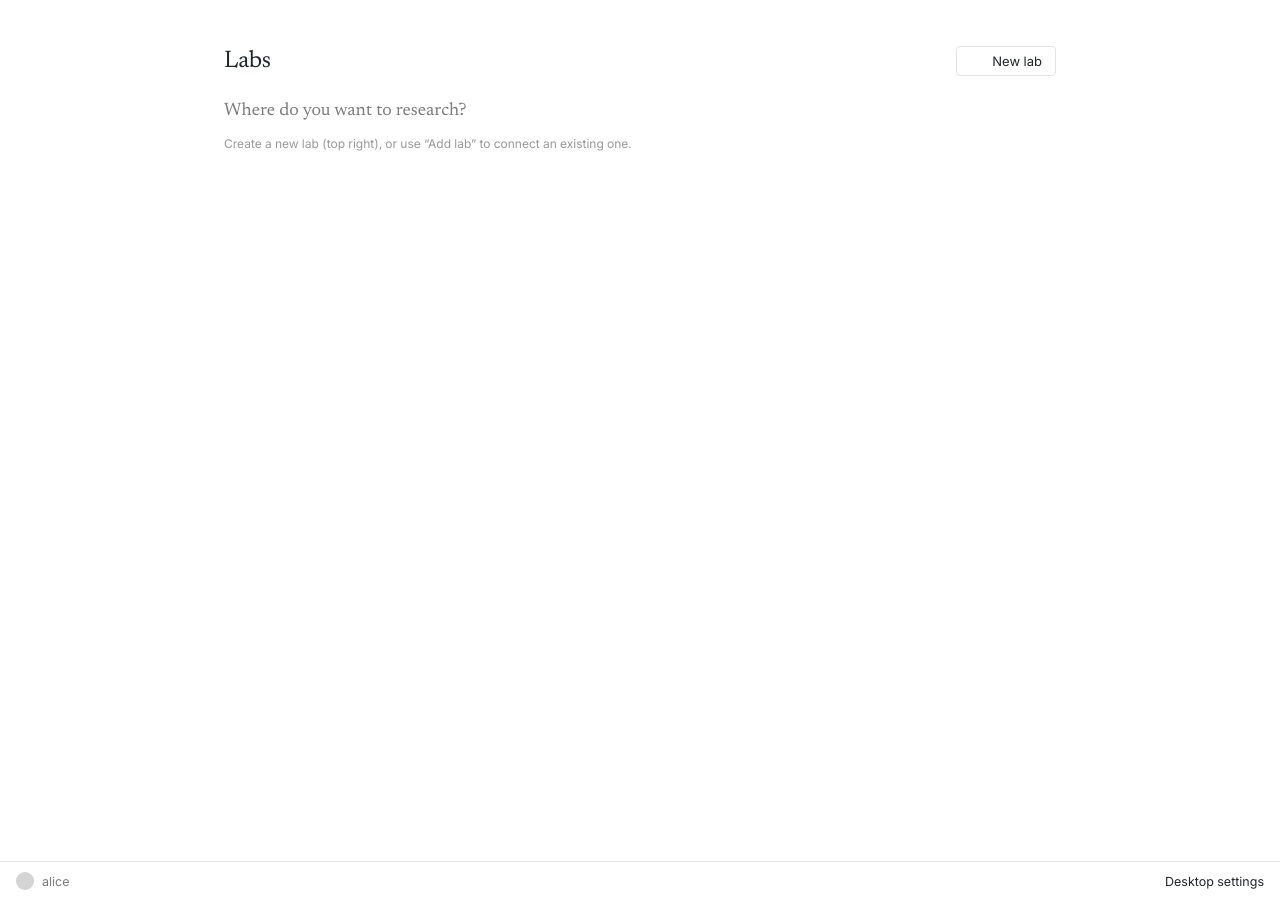
Test case: App labs list › New lab menu opens the wizard or signup
Click the button with aria-label "Add a lab" at (1006, 61), box top-left (956, 46), bottom-right (1056, 76)
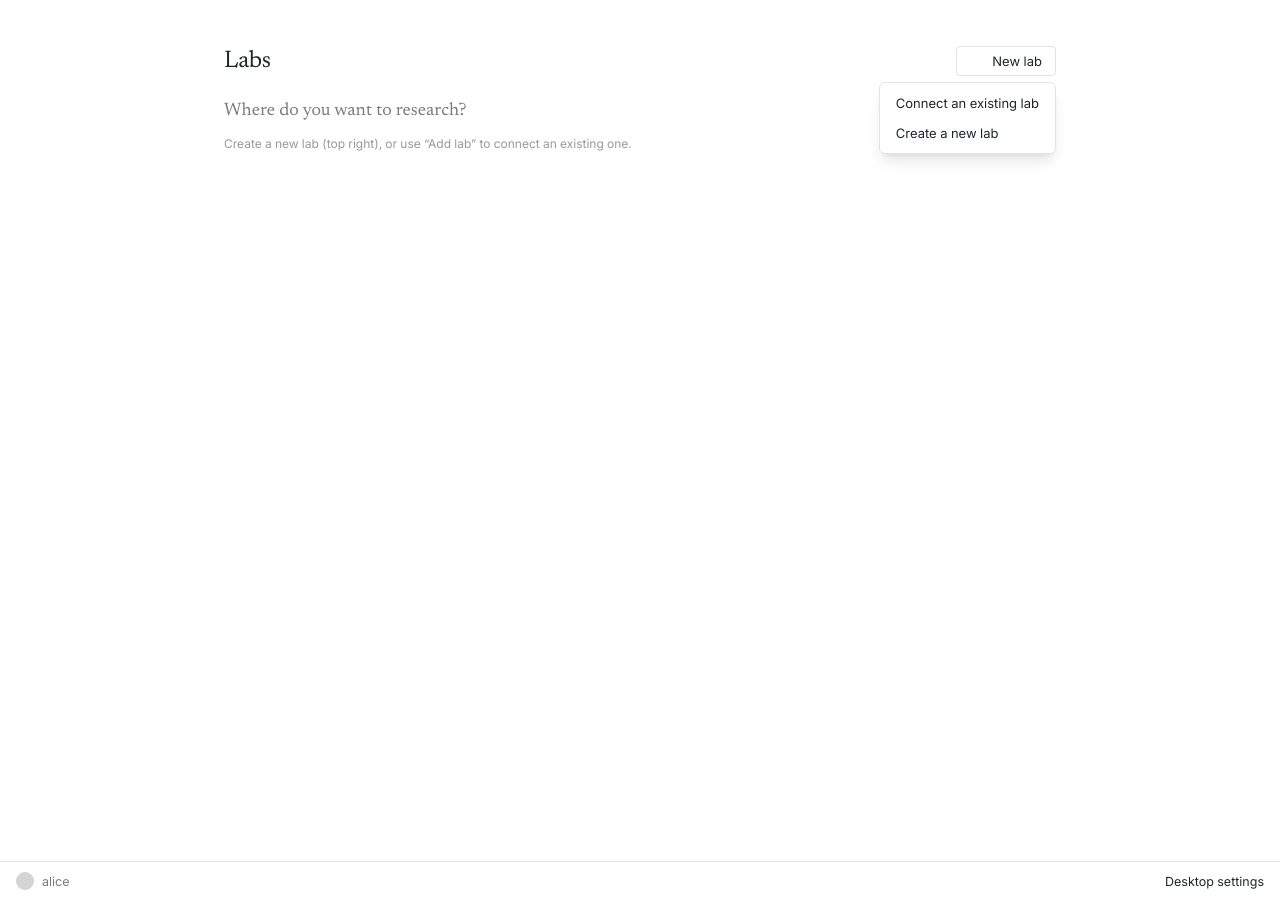
Click the menu item "Create a new lab" at (967, 133), box top-left (885, 118), bottom-right (1050, 148)
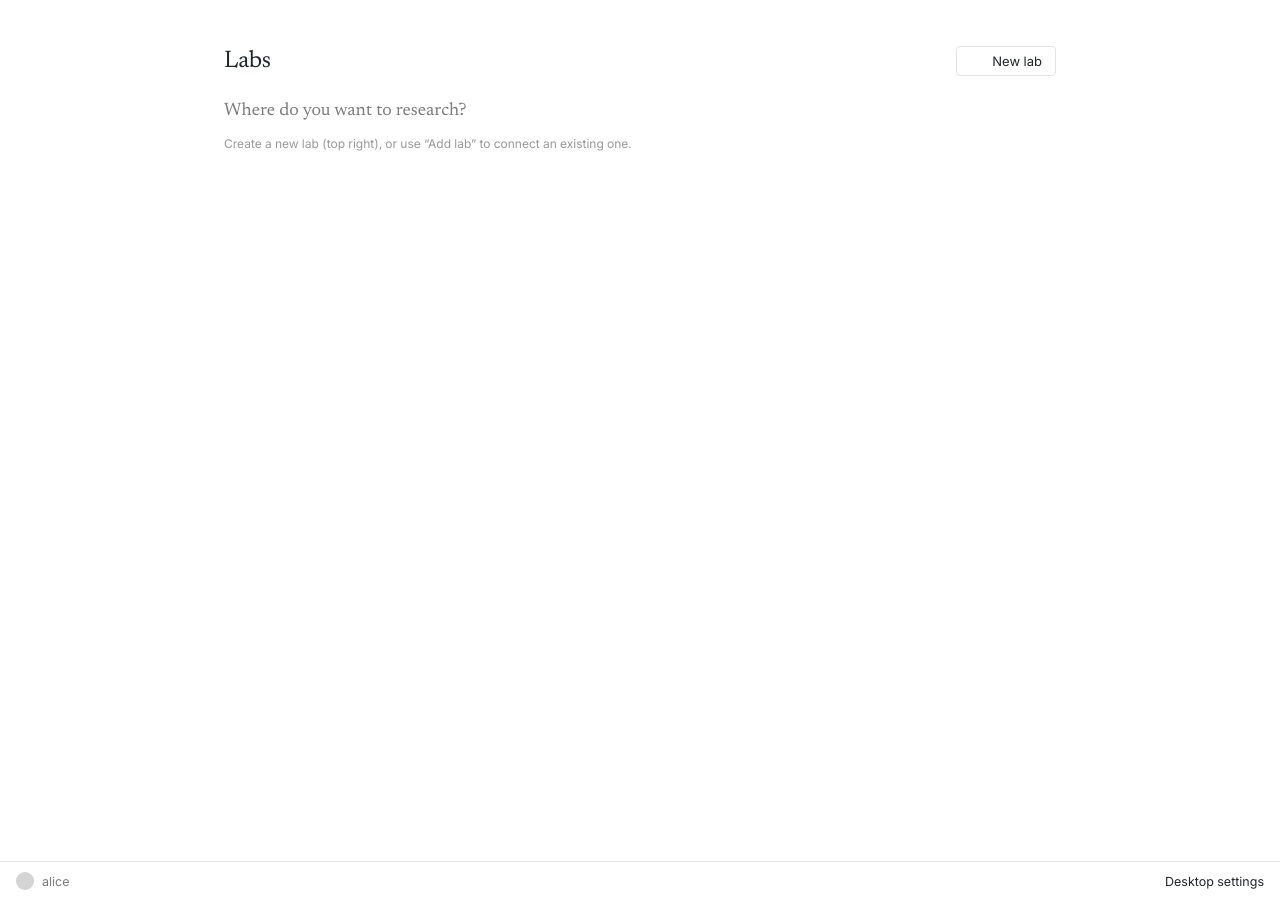
Click the button with aria-label "Add a lab" at (1006, 61), box top-left (956, 46), bottom-right (1056, 76)
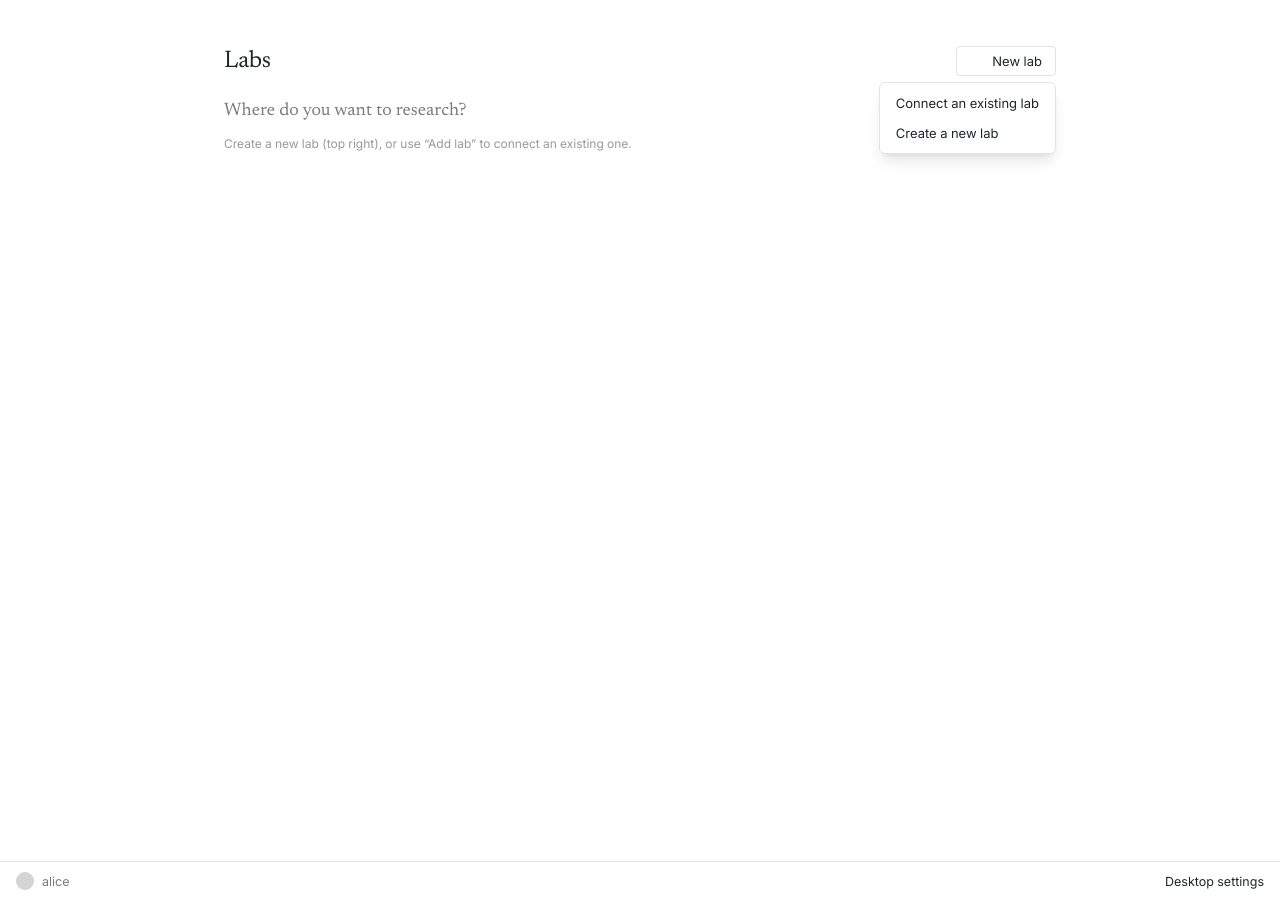
Click the menu item "Connect an existing lab" at (967, 103), box top-left (885, 88), bottom-right (1050, 118)
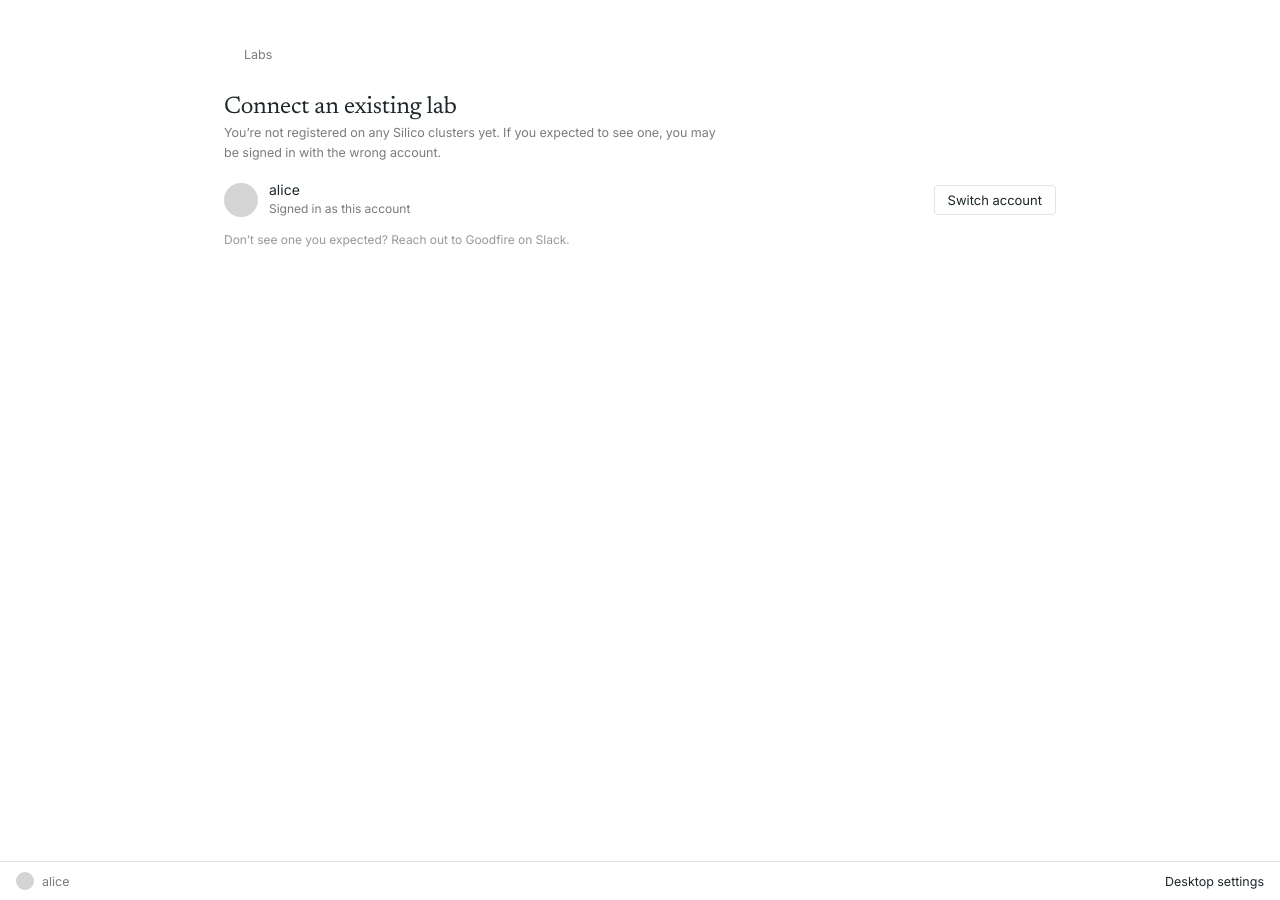
Expected: the heading "Connect an existing lab" is shown, top-left (224, 95), bottom-right (456, 119)
Expected: the text "You’re not registered on any Silico clusters yet. If you expected to see one, you may be signed in with the wrong accoun" is shown, top-left (224, 125), bottom-right (716, 160)
